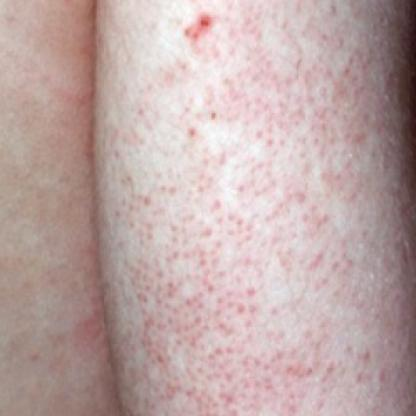Chicken Skin: (119, 65, 416, 416)
